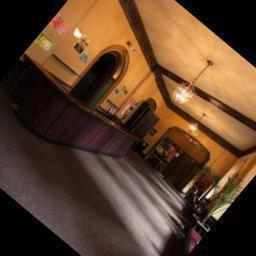Matera: (183, 175, 242, 239)
Puerta: (165, 155, 195, 188), (132, 110, 159, 138), (123, 100, 149, 128)
